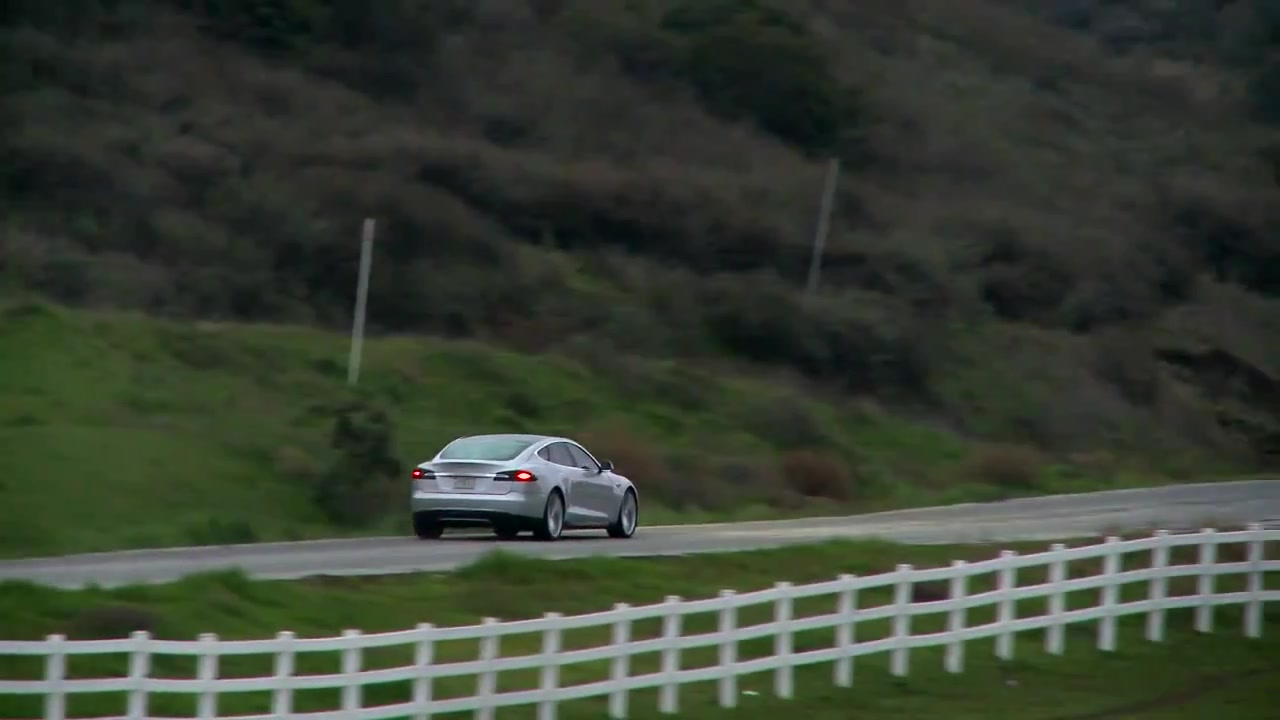car: (407, 430, 643, 545)
